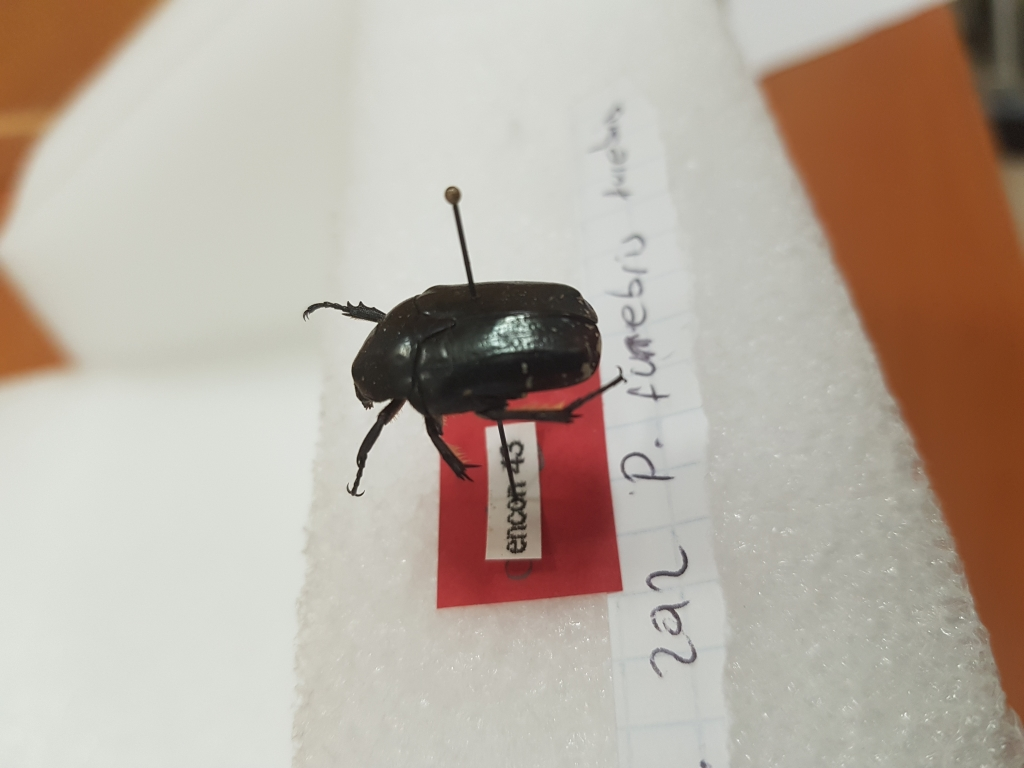Protaetia_funebris_funebris: (293, 264, 639, 513)
